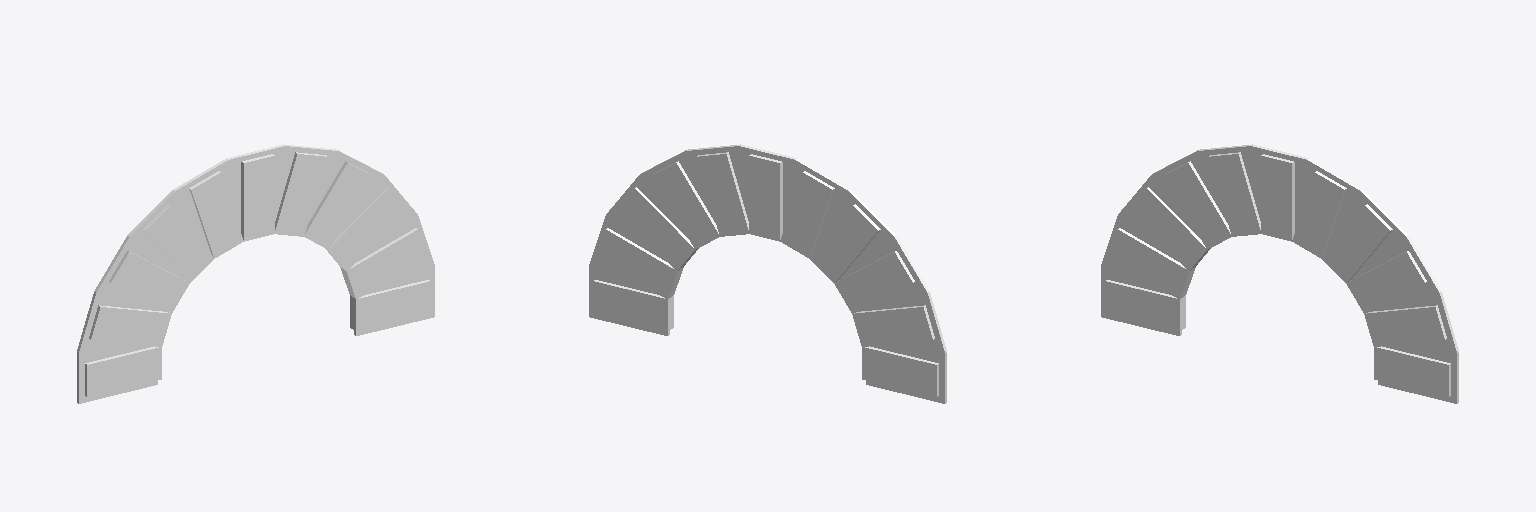
Rendered from lime_mortar_orange_clay_brick_facade_round_arch_1_bottom.obj.
The picture shows the model from 3 angles: view 1: azimuth 30°, elevation 25°; view 2: azimuth 150°, elevation 25°; view 3: azimuth 330°, elevation 25°; orthographic projection.
Visible parts, largest first — view 1: bricks_1, mortar_1; view 2: bricks_1, mortar_1; view 3: bricks_1, mortar_1.
Part boxes in pixels (bbox=[...]): bricks_1: bbox=[85, 152, 430, 397]; mortar_1: bbox=[77, 144, 434, 403]; bricks_1: bbox=[593, 152, 938, 397]; mortar_1: bbox=[589, 144, 946, 403]; bricks_1: bbox=[1105, 152, 1450, 397]; mortar_1: bbox=[1101, 144, 1458, 403].
Bounding box in the file's own units: 1.78 × 0.9922 × 0.0562.